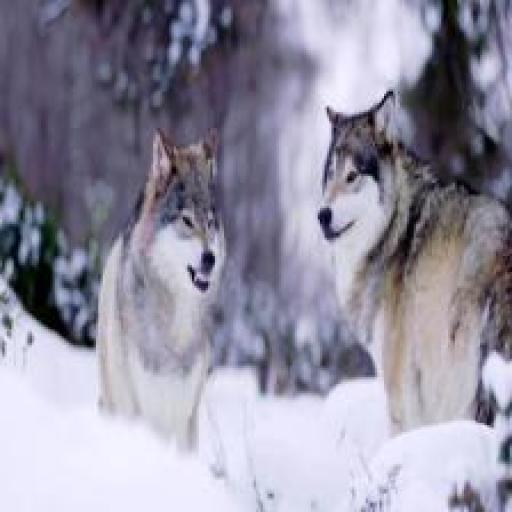wolf: (313, 71, 512, 454), (87, 114, 236, 446)
